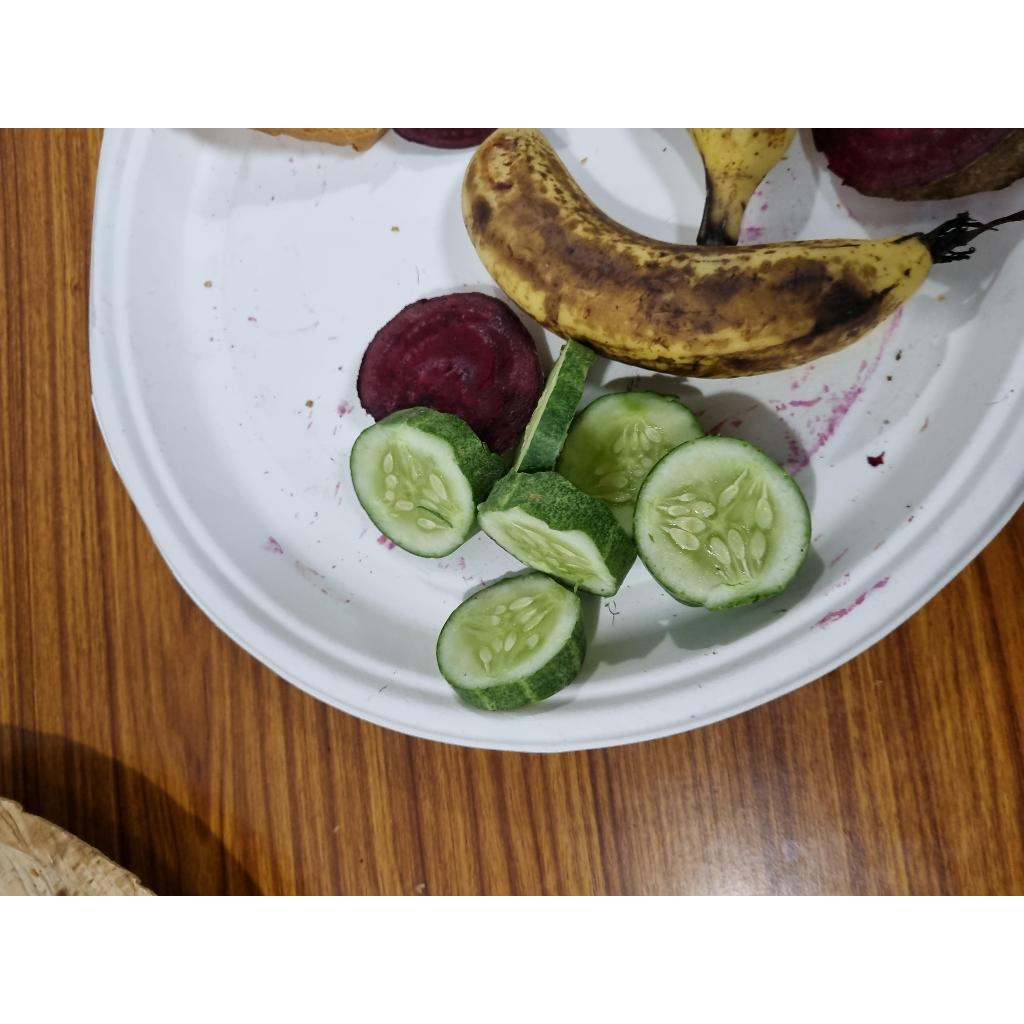banana: (460, 128, 950, 379)
cucumber: (632, 437, 811, 613), (346, 409, 514, 562), (433, 571, 603, 715), (476, 471, 639, 601), (563, 387, 707, 533), (511, 320, 601, 478)
